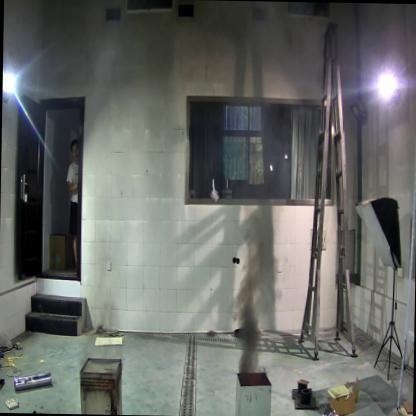smoke: (231, 270, 270, 371)
